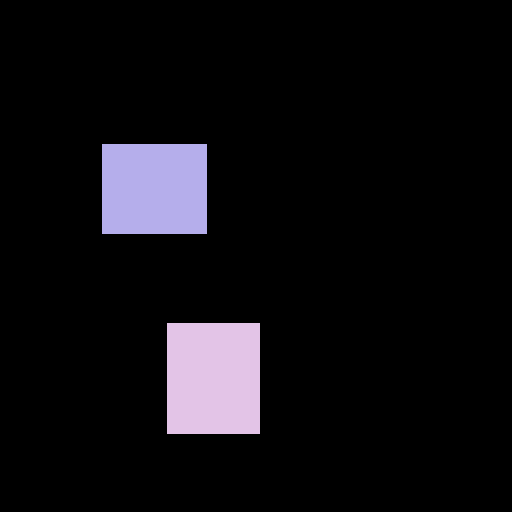rectangle: (167, 323, 259, 433), (102, 144, 206, 233)
